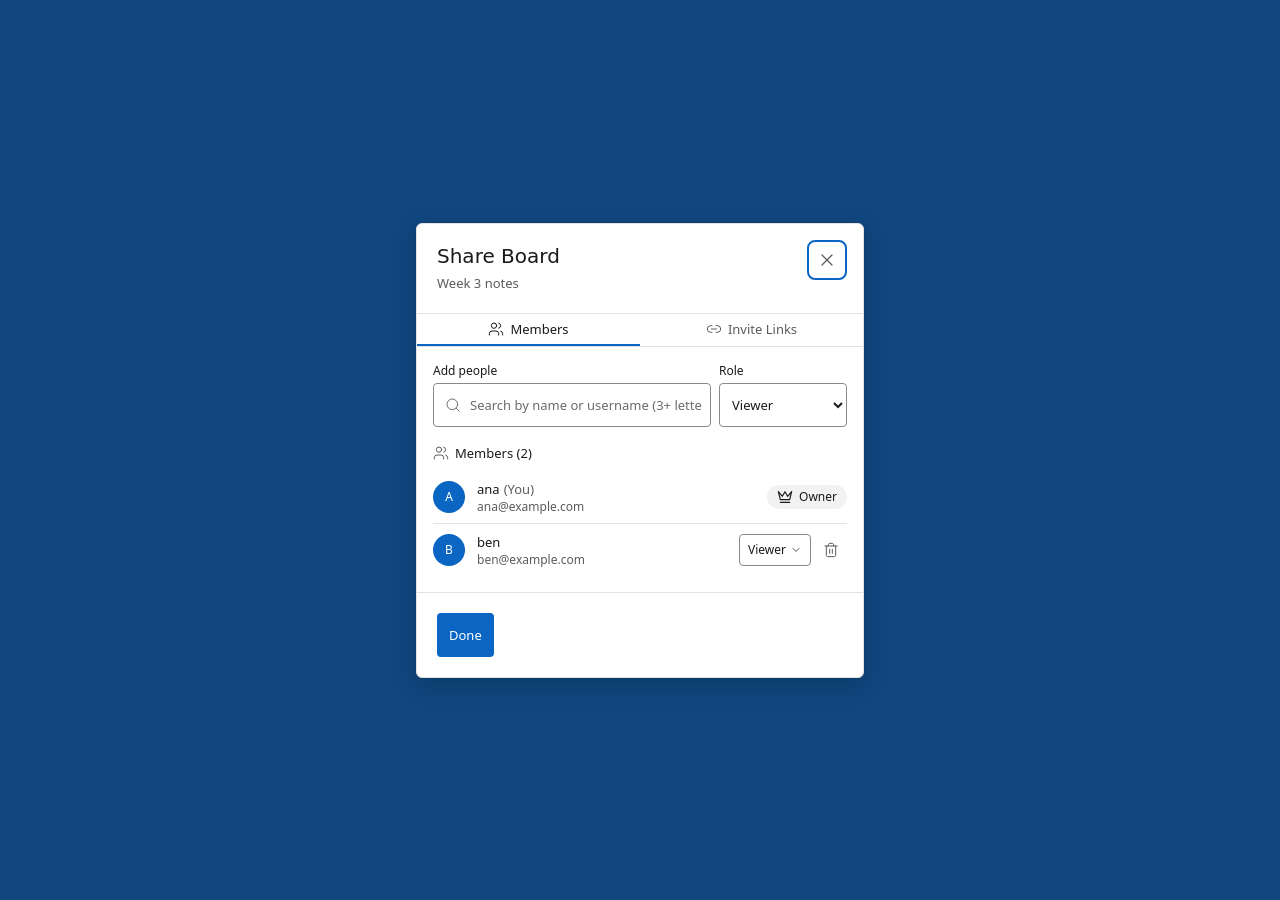
ShareModal › an invalid invite shows a text badge with an icon
This screenshot has width=1280, height=900.
Click the tab "Invite Links" at (752, 330), box left=640, top=314, right=863, bottom=346
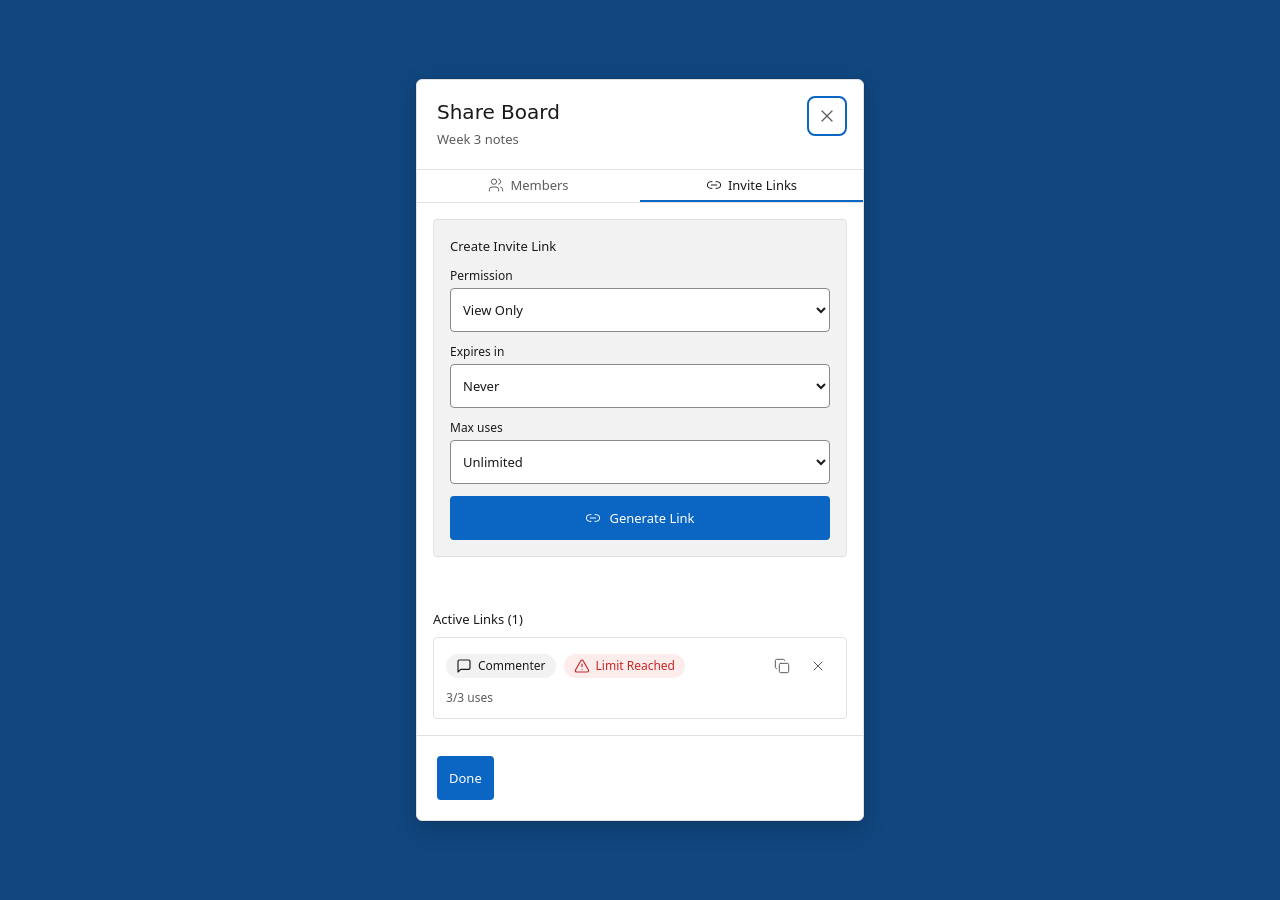
Result: the text "Limit Reached" is shown at left=596, top=658, right=675, bottom=674
Result: the button named "Revoke" is shown at left=802, top=650, right=834, bottom=682
